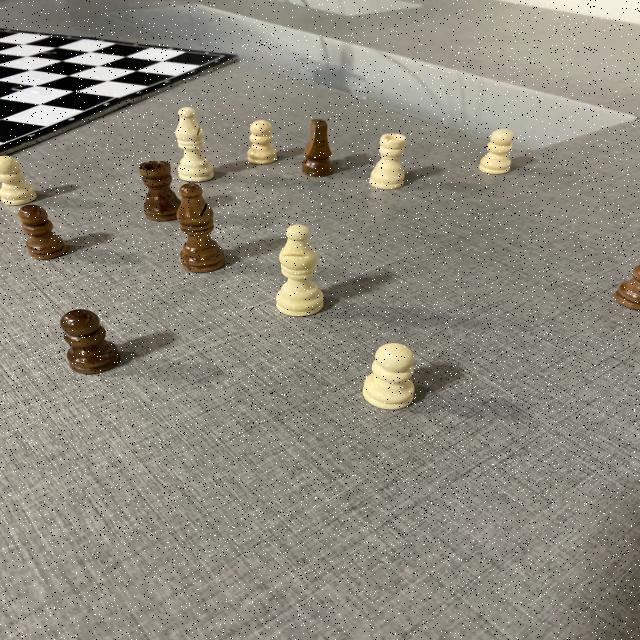Black-Bishop: (176, 180, 223, 272)
Black-Knight: (302, 114, 330, 178)
Black-Pawn: (58, 310, 119, 374), (19, 200, 61, 256)
Black-Rook: (137, 160, 183, 220)
White-Bishop: (278, 222, 320, 324), (176, 103, 216, 183)
White-Pawn: (362, 342, 417, 408), (479, 127, 519, 173), (248, 117, 278, 165), (0, 157, 30, 201)
White-Rook: (368, 134, 406, 187)
